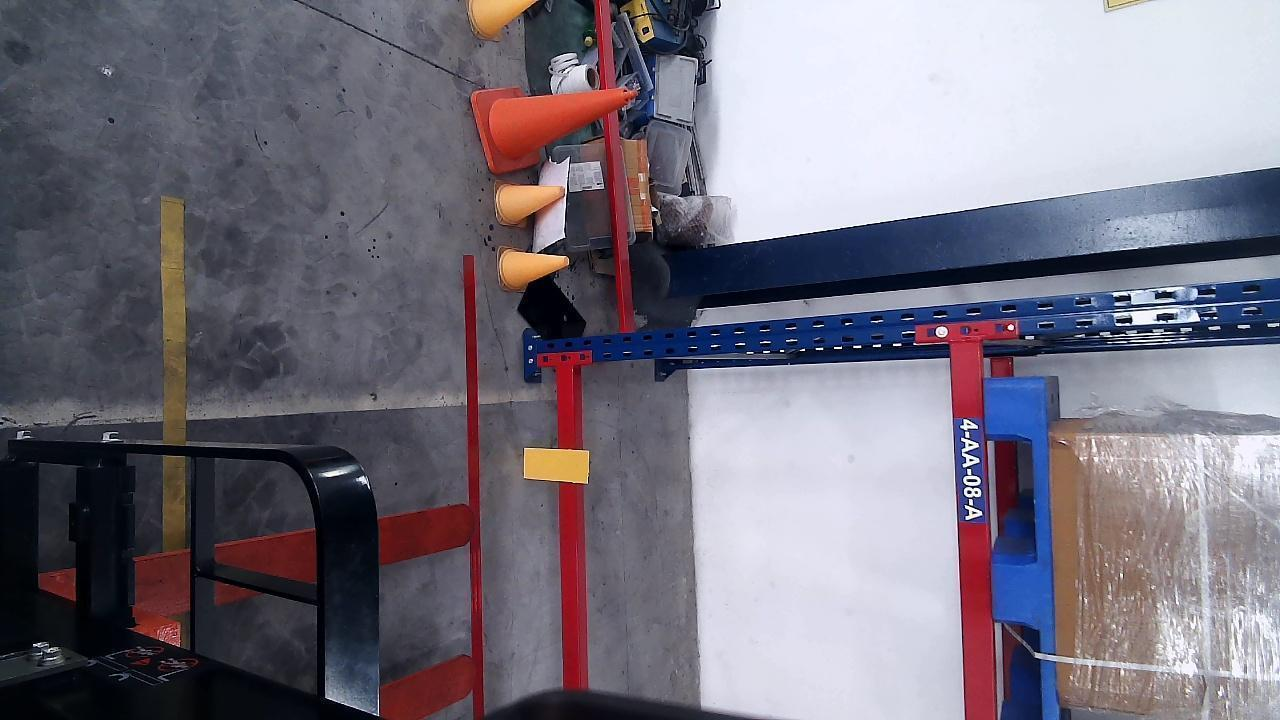red_line: (463, 255, 485, 715)
yellow_line: (162, 196, 188, 549)
